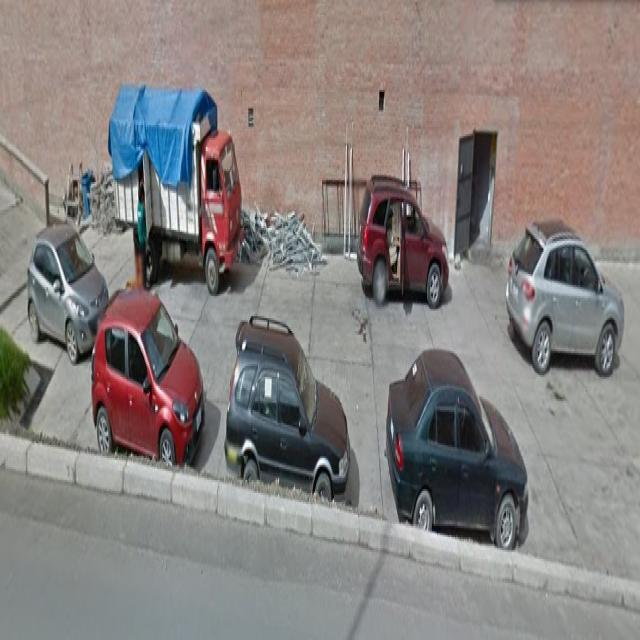truck: (106, 101, 252, 285), (390, 352, 530, 542), (226, 316, 354, 512), (96, 294, 205, 493), (514, 205, 627, 368), (356, 168, 450, 325), (29, 206, 91, 377)
